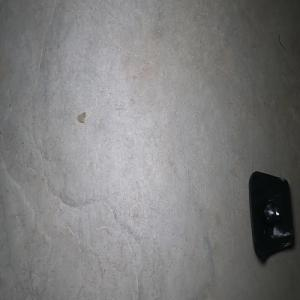LuggagePart: (247, 170, 295, 262)
